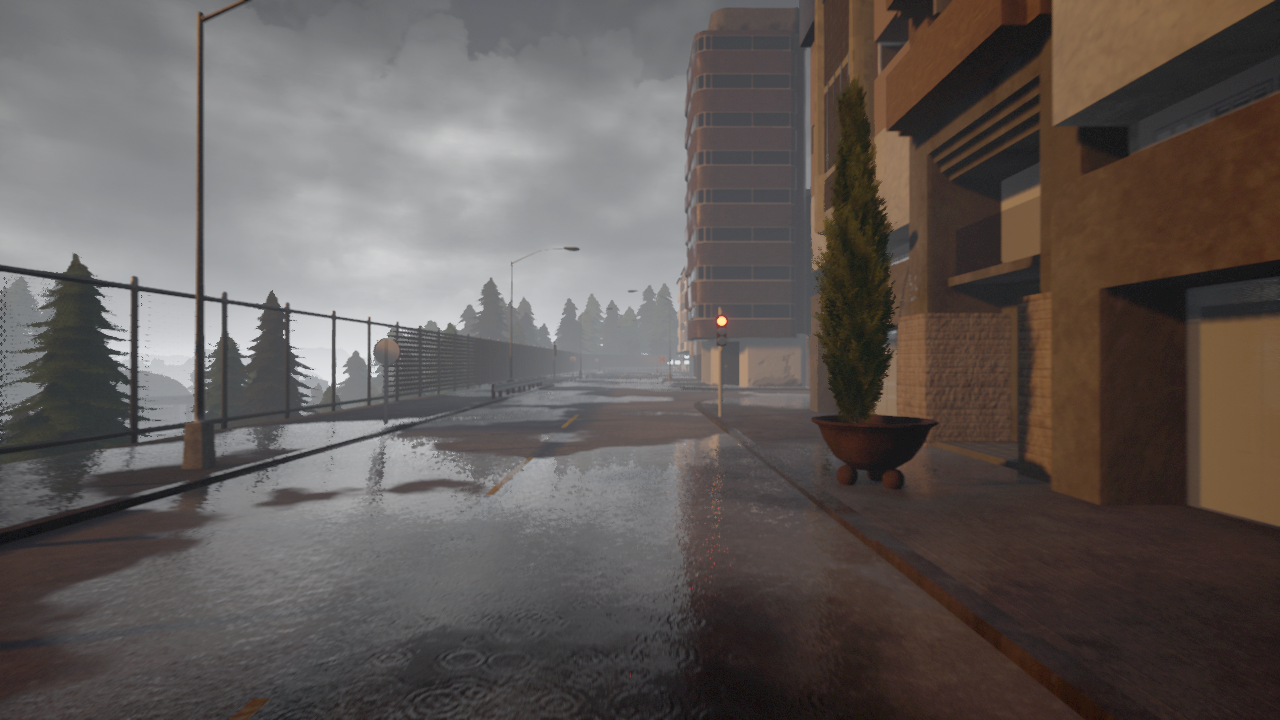red: (714, 313, 727, 348)
